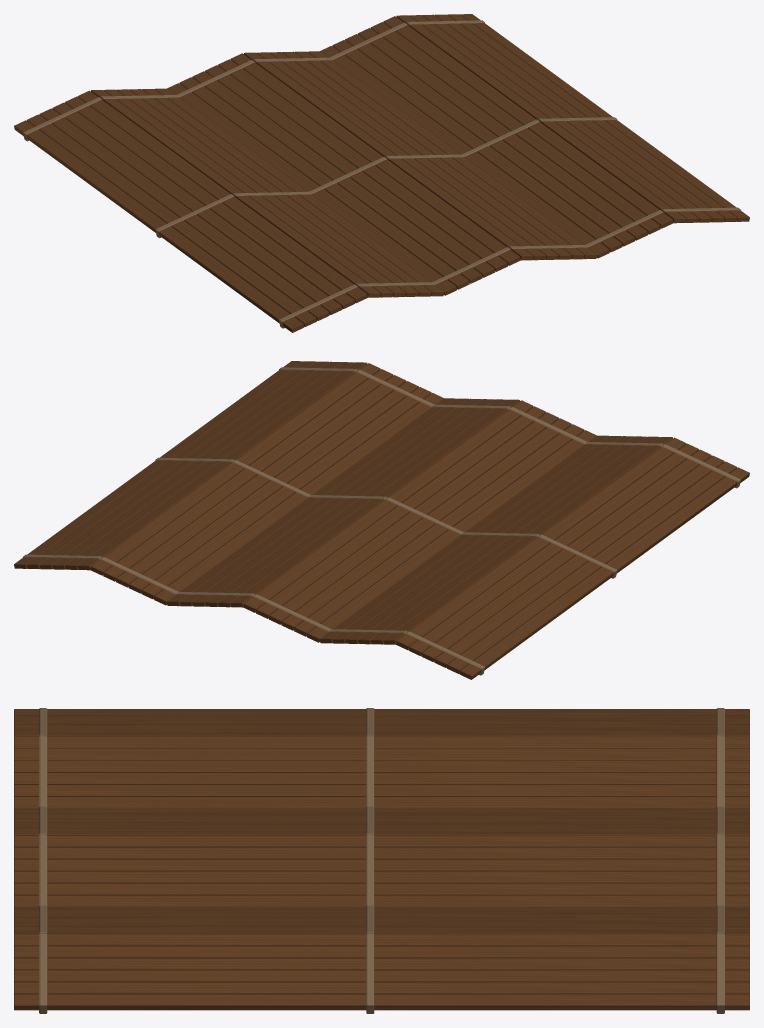
The model's file is retreat_global_a5_roof.glb.
The picture shows the model from 3 angles, top to bottom: view 1: azimuth 30°, elevation 25°; view 2: azimuth 150°, elevation 25°; view 3: azimuth 270°, elevation 25°; orthographic projection. The views are drawn at different scales.
Visible parts, largest first — view 1: CANON_Wood_Roof_Bay_1, CANON_Wood_Roof_Bay_2, CANON_Wood_Roof_Bay_3; view 2: CANON_Wood_Roof_Bay_1, CANON_Wood_Roof_Bay_2, CANON_Wood_Roof_Bay_3; view 3: CANON_Wood_Roof_Bay_3, CANON_Wood_Roof_Bay_2, CANON_Wood_Roof_Bay_1.
Boxes of the visible parts, x1,y1,x2,y2 form: CANON_Wood_Roof_Bay_1: (14, 88, 444, 332); CANON_Wood_Roof_Bay_2: (167, 51, 596, 295); CANON_Wood_Roof_Bay_3: (319, 14, 749, 258); CANON_Wood_Roof_Bay_1: (319, 435, 749, 679); CANON_Wood_Roof_Bay_2: (167, 398, 596, 642); CANON_Wood_Roof_Bay_3: (14, 361, 444, 605); CANON_Wood_Roof_Bay_3: (14, 905, 749, 1013); CANON_Wood_Roof_Bay_2: (14, 806, 749, 906); CANON_Wood_Roof_Bay_1: (14, 708, 749, 807).
Size of the model in its own units: 9.03 by 0.4609 by 9.45.
Materials: 2 (1 with a texture image).
